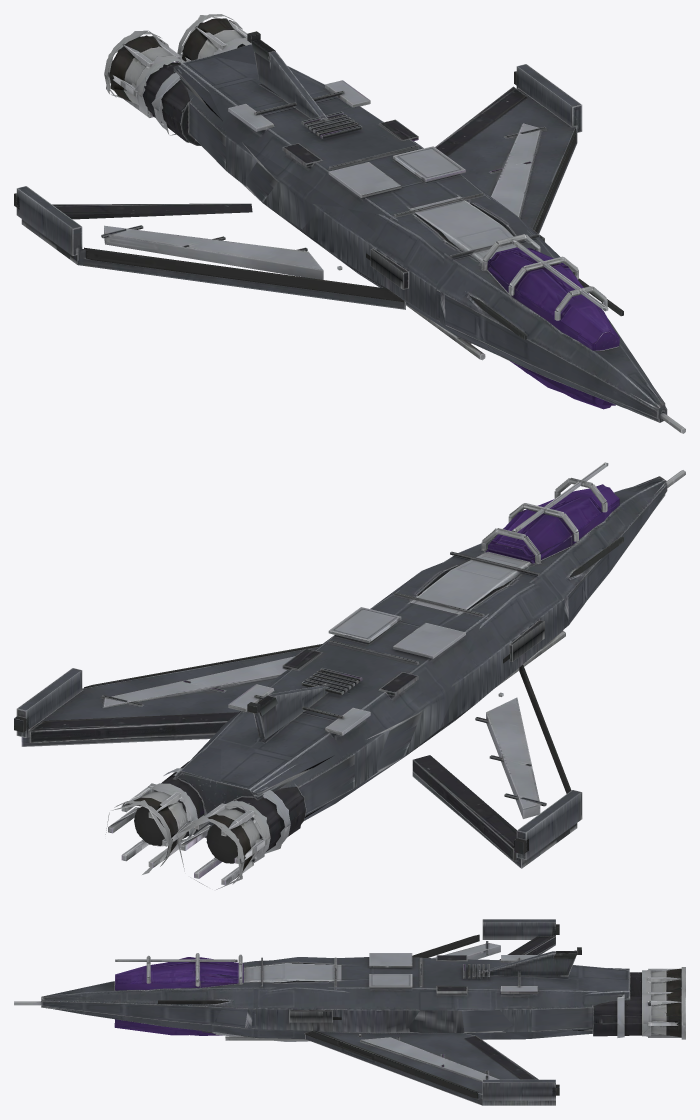
The model's file is sd_ship_hayalet_m.glb.
The picture shows the model from 3 angles, top to bottom: view 1: azimuth 30°, elevation 25°; view 2: azimuth 150°, elevation 25°; view 3: azimuth 270°, elevation 25°; orthographic projection. The views are drawn at different scales.
Parts seen in each view (by area): view 1: LOD0_body, LOD1_body; view 2: LOD0_body, LOD1_body; view 3: LOD0_body, LOD1_body.
Part boxes in pixels (x1,y1,x2,y2): LOD0_body: [14, 14, 685, 433]; LOD1_body: [66, 15, 665, 422]; LOD0_body: [14, 462, 685, 885]; LOD1_body: [22, 476, 666, 889]; LOD0_body: [14, 919, 685, 1105]; LOD1_body: [38, 944, 685, 1105].
Bounding box in the file's own units: 0.5761 × 0.1399 × 1.
1 material, 1 textured.
